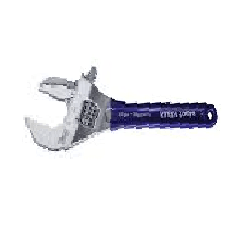Wrench: (23, 71, 225, 163)
